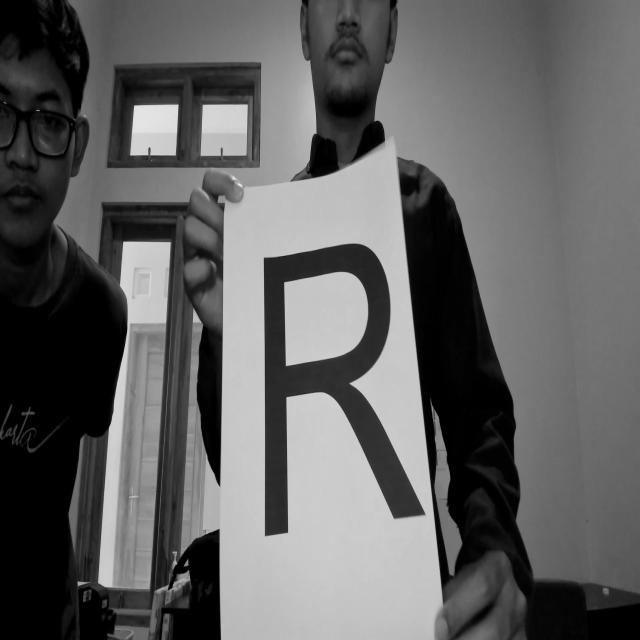r: (240, 222, 440, 602)
